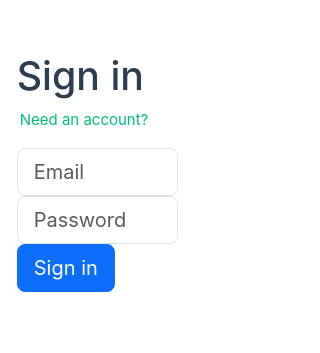
LoginPage › error formatting › renders one list item per failing field
This screenshot has width=320, height=353.
Type "jane@example.com" into the field with placeholder "Email" at (98, 172), box [17,148,178,196]
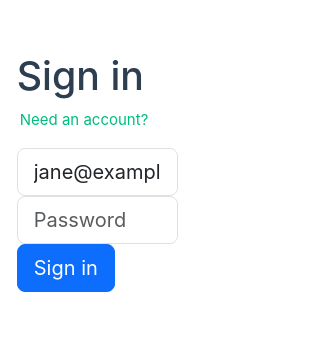
Type "secret" into the password field with placeholder "Password" at (98, 220), box [17,196,178,244]
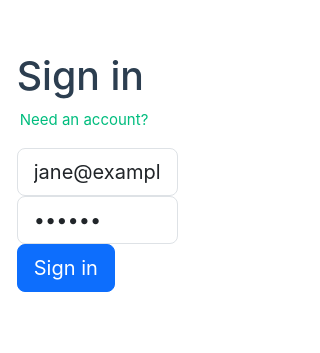
Submit the form, box [17,148,178,292]
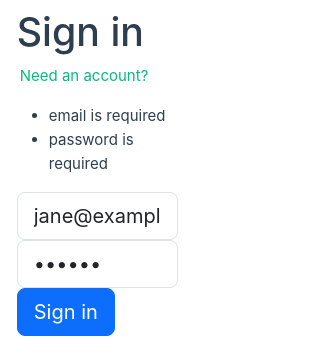
Check: the number of list items is 2, box [49,104,178,128]; [49,130,134,173]
